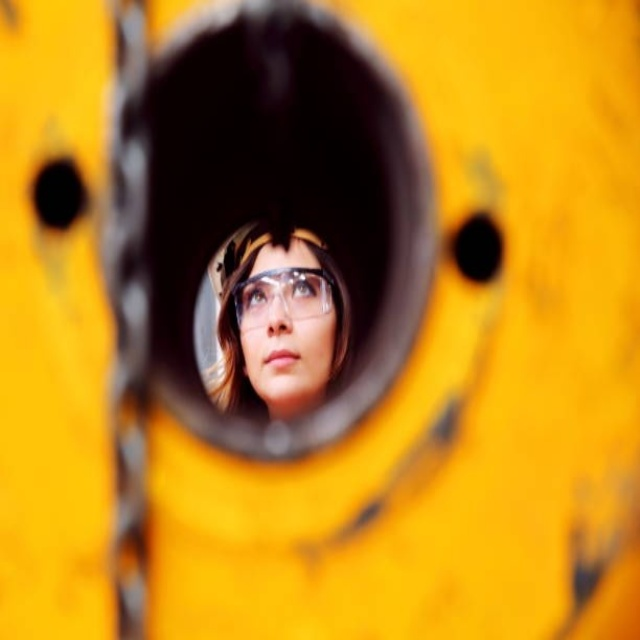Gafas: (20, 0, 517, 630), (231, 268, 339, 330)
Sin_mascara: (254, 342, 307, 391)
